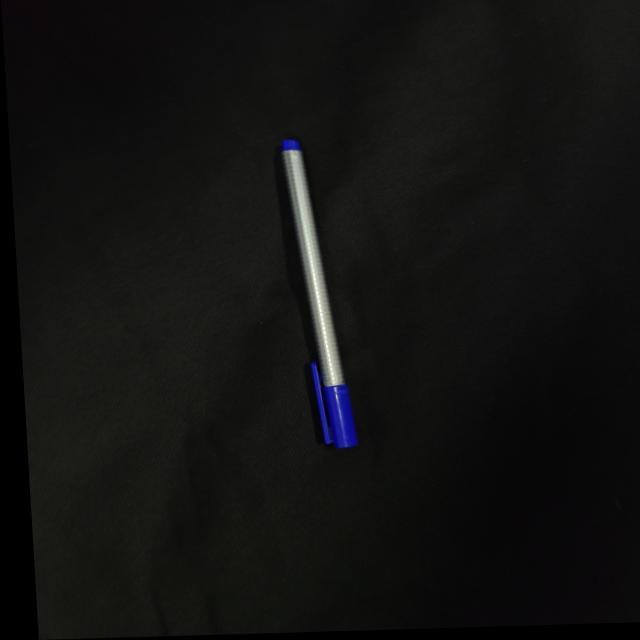caneta: (258, 125, 371, 464)
